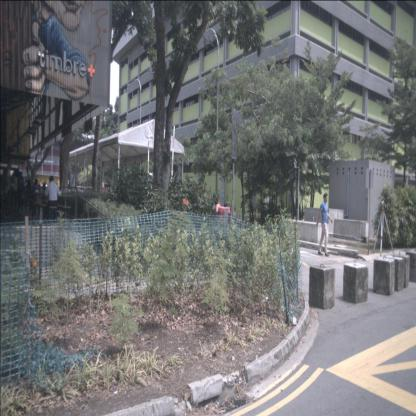human-pedestrian-adult: (316, 193, 333, 257), (44, 175, 63, 226), (32, 178, 41, 213), (40, 182, 48, 210)
